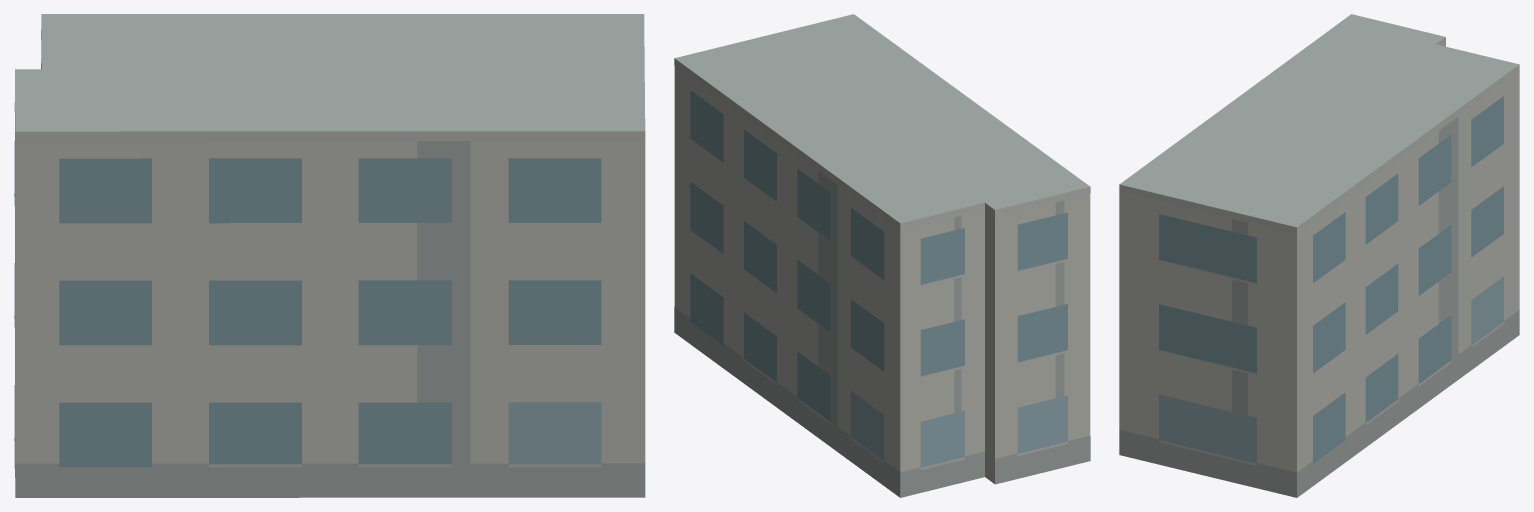
Rendered from residential-ef71641d-fd81-46a5-95b4-03e2ccc500ae.glb.
The picture shows the model from 3 angles, left to right: view 1: azimuth 30°, elevation 25°; view 2: azimuth 150°, elevation 25°; view 3: azimuth 270°, elevation 25°; orthographic projection. The views are drawn at different scales.
Parts seen in each view (by area): view 1: residential-ef71641d-fd81-46a5-95b4-03e2ccc500ae.tmp; view 2: residential-ef71641d-fd81-46a5-95b4-03e2ccc500ae.tmp; view 3: residential-ef71641d-fd81-46a5-95b4-03e2ccc500ae.tmp.
Part boxes in pixels (<box>): residential-ef71641d-fd81-46a5-95b4-03e2ccc500ae.tmp: <box>14,14,645,497</box>; residential-ef71641d-fd81-46a5-95b4-03e2ccc500ae.tmp: <box>674,14,1090,497</box>; residential-ef71641d-fd81-46a5-95b4-03e2ccc500ae.tmp: <box>1119,14,1519,497</box>.
Bounding box in the file's own units: 15.48 × 9.15 × 12.28.
